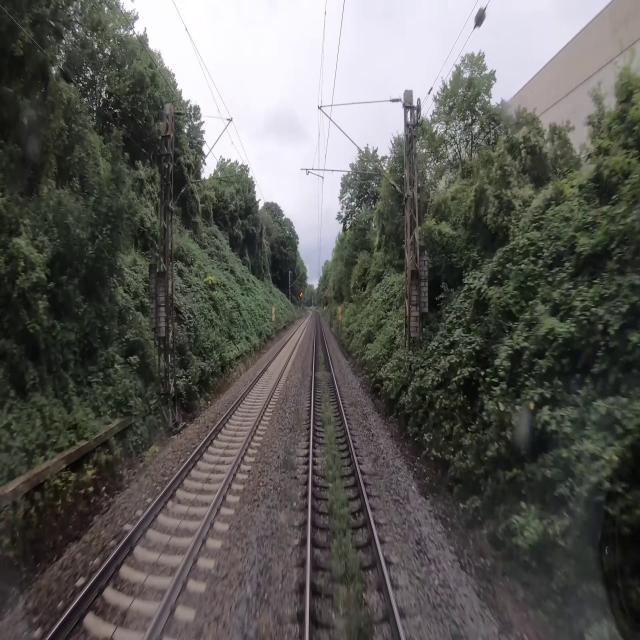Plant: (318, 351, 373, 639), (352, 397, 362, 422)
